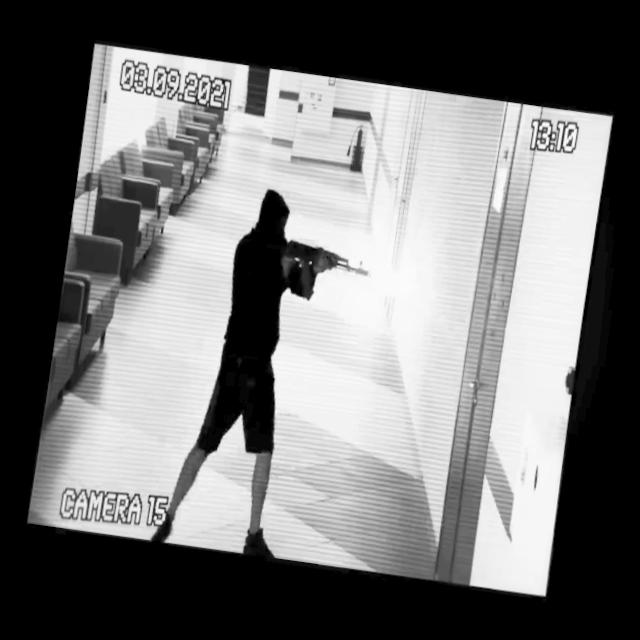gun: (256, 235, 375, 310)
person with a gun: (152, 179, 382, 566)
